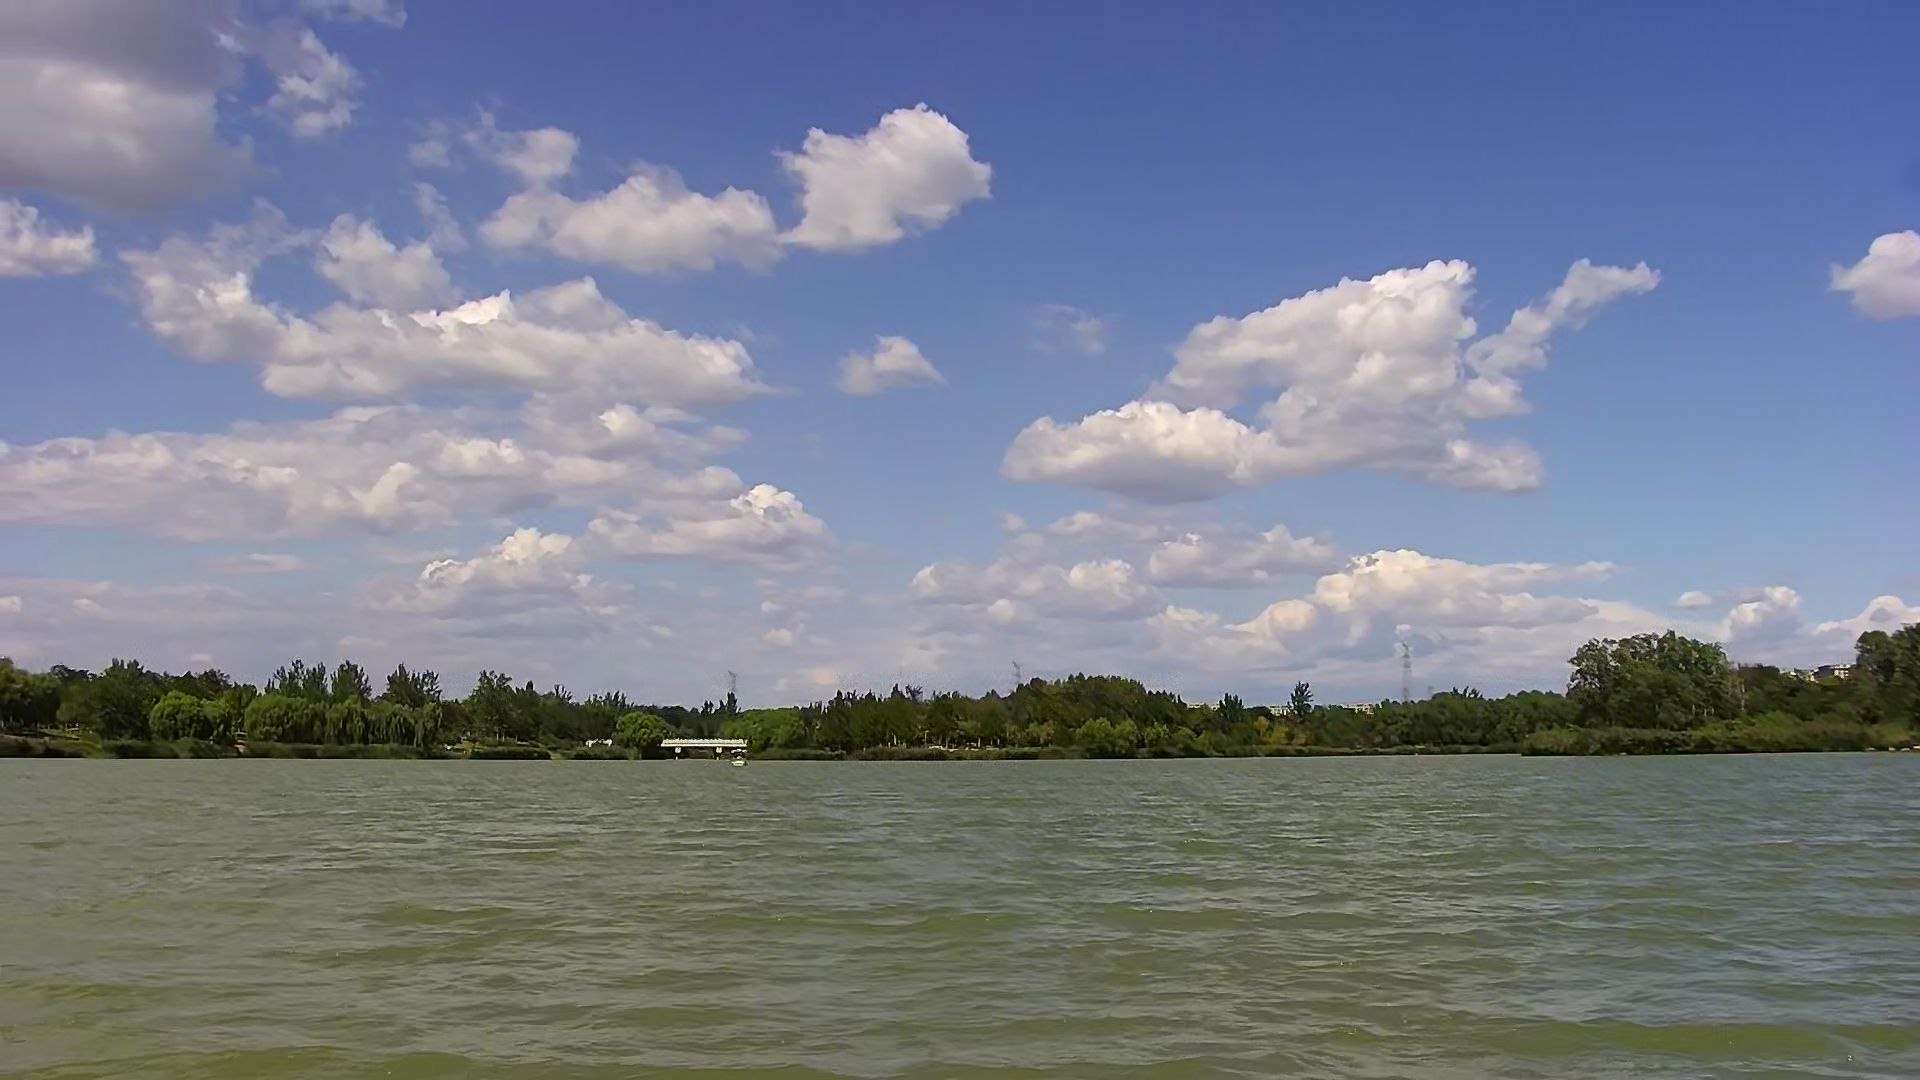bridge: (653, 728, 758, 764)
